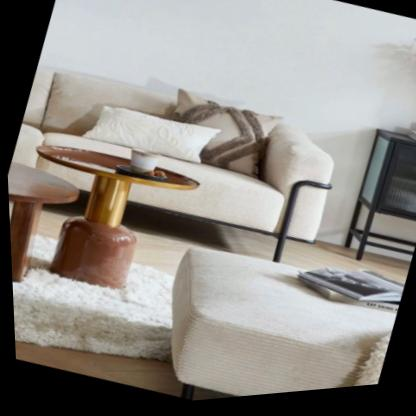Sofa: (10, 65, 333, 264)
Wooden floor: (12, 341, 179, 400), (277, 244, 408, 292)
